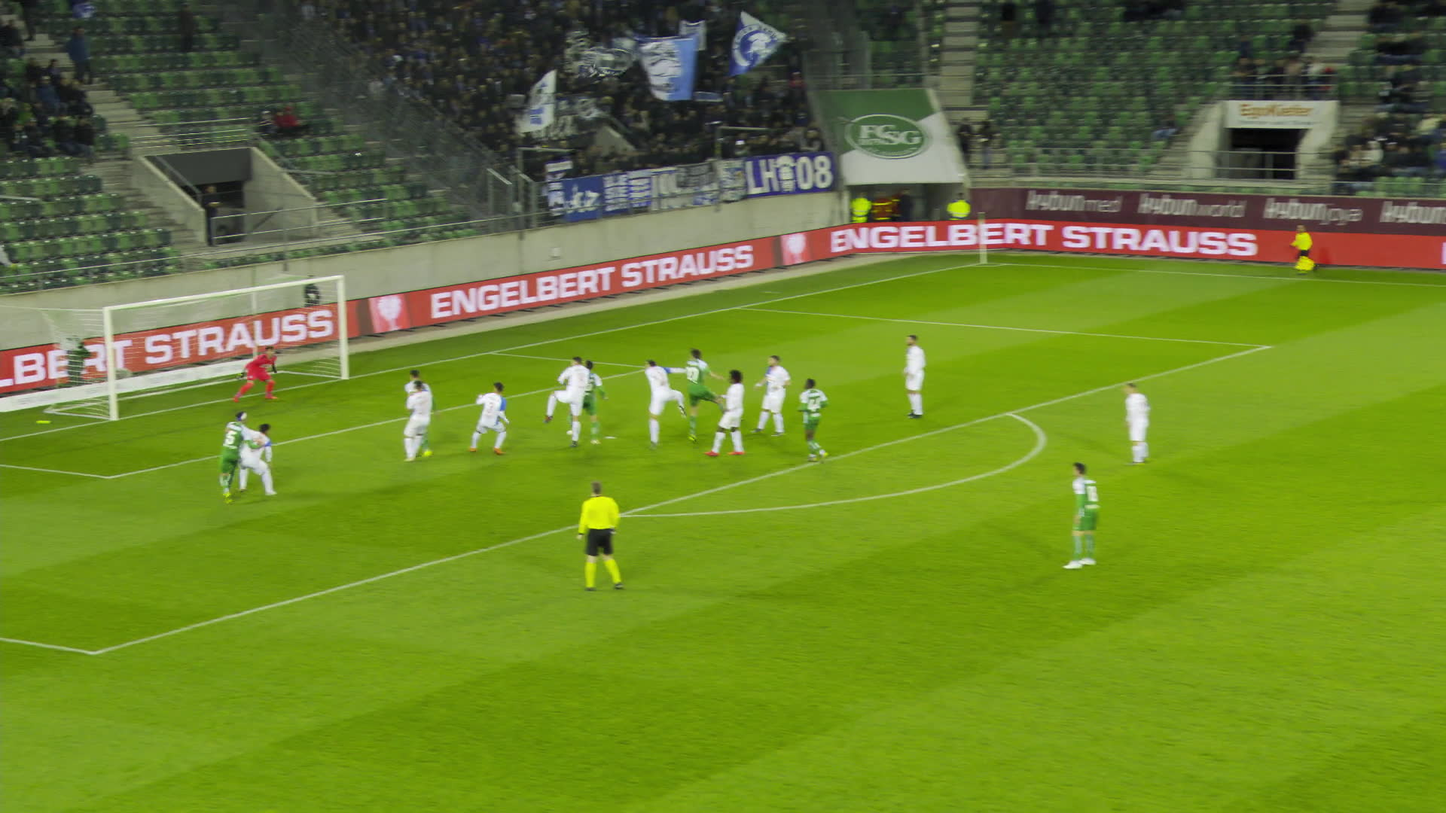ball: (432, 377, 450, 389)
player: (1054, 461, 1097, 566), (636, 360, 687, 443), (212, 411, 259, 501), (679, 352, 722, 436), (704, 370, 745, 456), (544, 358, 584, 445), (237, 419, 277, 497), (564, 356, 601, 440), (400, 369, 435, 457), (751, 352, 787, 434), (232, 343, 279, 403), (473, 379, 511, 453), (791, 379, 825, 461), (398, 377, 428, 461), (1116, 380, 1145, 464), (895, 335, 923, 419)
referee: (572, 480, 620, 589), (1285, 222, 1311, 276)
